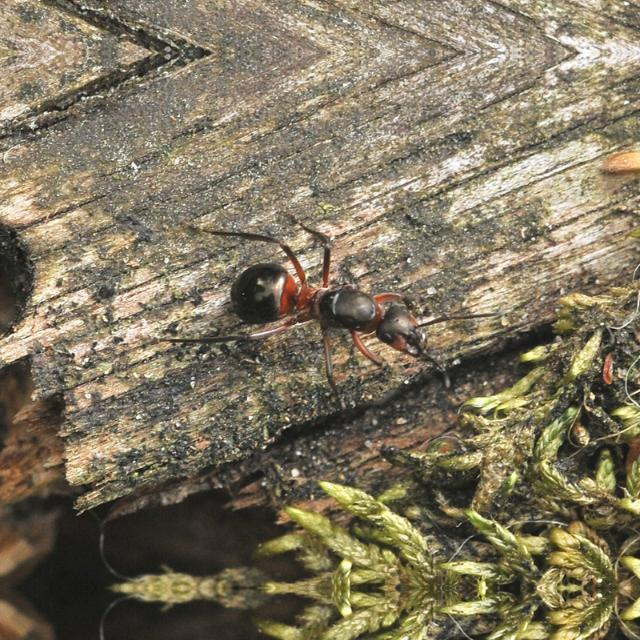Formica: (235, 245, 440, 375)
